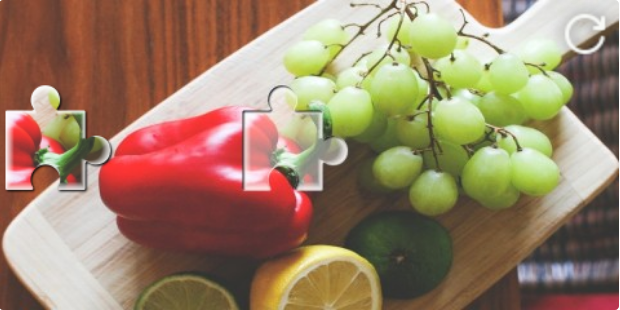target: (242, 84, 349, 191)
